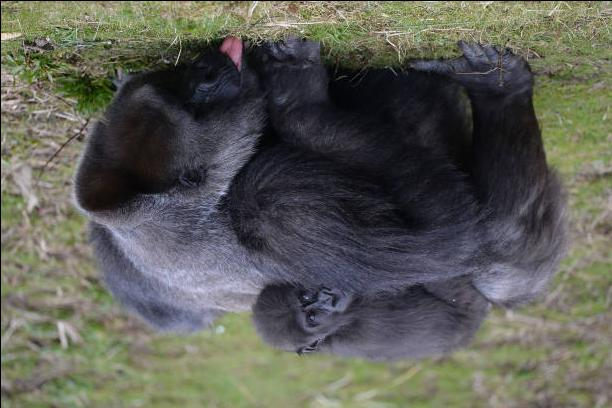gorille_Autres: (65, 44, 572, 364)
